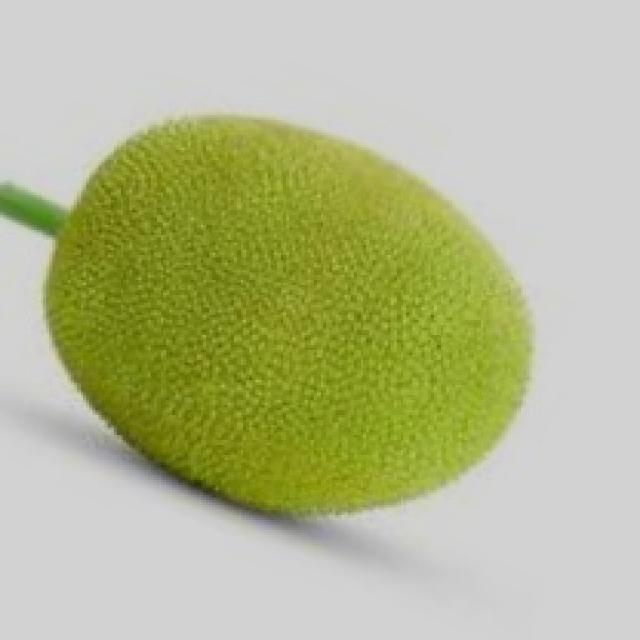Fruit: (222, 105, 572, 533)
